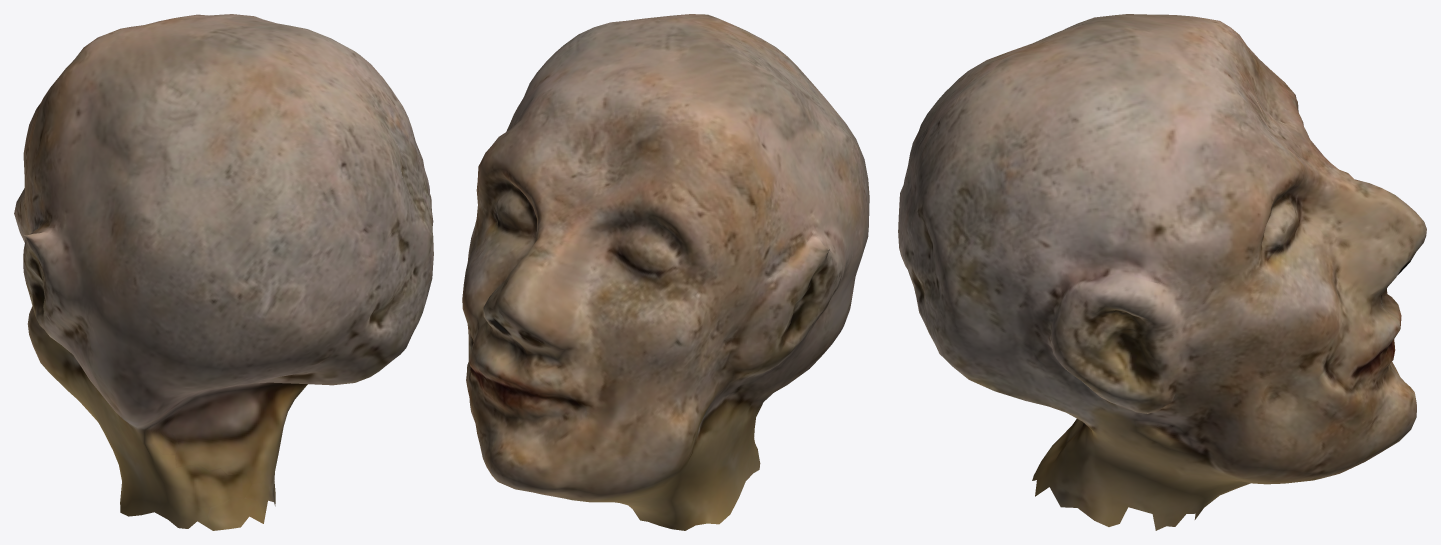
The model's file is head2.fbx.
3 renders of one model, left to right at view 1: azimuth 30°, elevation 25°; view 2: azimuth 150°, elevation 25°; view 3: azimuth 270°, elevation 25°, orthographic. The views are drawn at different scales.
Parts seen in each view (by area): view 1: 3DModel; view 2: 3DModel; view 3: 3DModel.
Part boxes in pixels (x1=…): 3DModel: x1=14, y1=14, x2=433, y2=530; 3DModel: x1=462, y1=14, x2=869, y2=530; 3DModel: x1=898, y1=14, x2=1426, y2=530.
Bounding box in the file's own units: 16.02 × 19.81 × 19.53.
